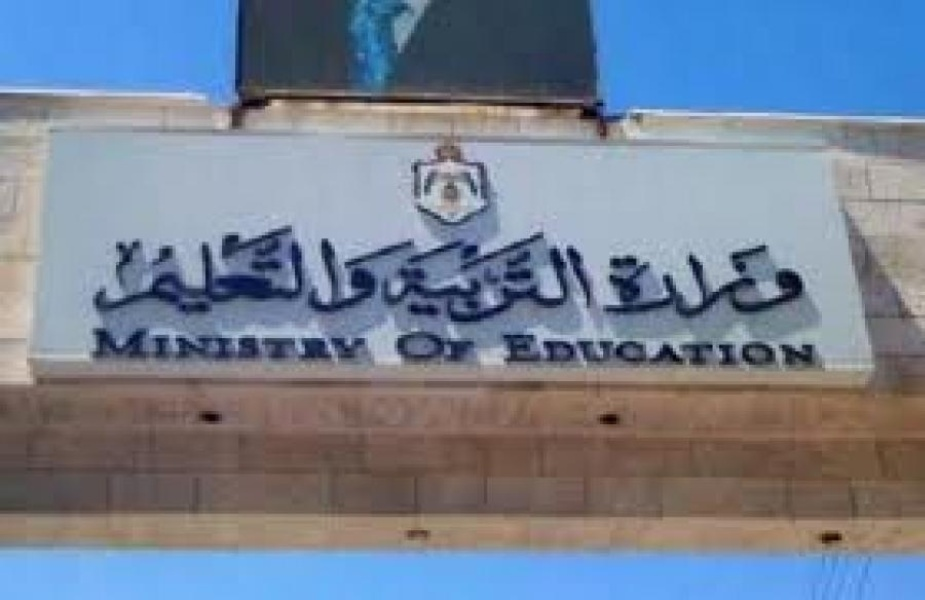text: (97, 223, 112, 329), (113, 223, 128, 329), (129, 223, 144, 329), (145, 223, 160, 329), (161, 223, 176, 329), (177, 223, 192, 329), (193, 223, 208, 329), (209, 223, 224, 329), (225, 223, 240, 329), (241, 223, 256, 329), (257, 223, 272, 329), (273, 223, 288, 329), (289, 223, 304, 329), (305, 223, 320, 329), (321, 223, 336, 329), (337, 223, 352, 329), (353, 223, 368, 329), (369, 223, 384, 329), (385, 223, 400, 329), (401, 223, 416, 329), (449, 228, 464, 331), (465, 228, 480, 331), (481, 228, 496, 331), (497, 228, 512, 331), (513, 228, 528, 331), (529, 228, 544, 331), (545, 228, 560, 331), (561, 228, 576, 331), (577, 228, 592, 331), (417, 223, 429, 329), (609, 242, 624, 318), (625, 242, 640, 318), (641, 242, 656, 318), (657, 242, 672, 318), (673, 242, 688, 318), (689, 242, 704, 318), (705, 242, 720, 318), (721, 242, 736, 318), (737, 242, 752, 318), (753, 242, 768, 318), (769, 242, 784, 318), (785, 242, 800, 318), (86, 223, 96, 329), (593, 228, 602, 331), (440, 228, 448, 331), (801, 242, 810, 318), (513, 330, 528, 368), (529, 330, 544, 368), (545, 330, 560, 368), (561, 330, 576, 368), (577, 330, 592, 368), (593, 330, 608, 368), (609, 330, 624, 368), (625, 330, 640, 368), (641, 330, 656, 368), (657, 330, 672, 368), (673, 330, 688, 368), (689, 330, 704, 368), (705, 330, 720, 368), (721, 330, 736, 368), (737, 330, 752, 368), (753, 330, 768, 368), (769, 330, 784, 368), (785, 330, 800, 368), (801, 330, 816, 368), (97, 327, 112, 362), (113, 327, 128, 362), (129, 327, 144, 362), (145, 327, 160, 362), (161, 327, 176, 362), (177, 327, 192, 362), (193, 327, 208, 362), (209, 327, 224, 362), (225, 327, 240, 362), (241, 327, 256, 362), (257, 327, 272, 362), (273, 327, 288, 362), (289, 327, 304, 362), (305, 327, 320, 362), (321, 327, 336, 362), (337, 327, 352, 362), (401, 331, 416, 364), (417, 331, 432, 364), (433, 331, 448, 364), (449, 331, 464, 364), (602, 242, 608, 318), (501, 330, 512, 368), (465, 331, 477, 364), (353, 327, 362, 362), (395, 331, 400, 364), (92, 327, 96, 362)
